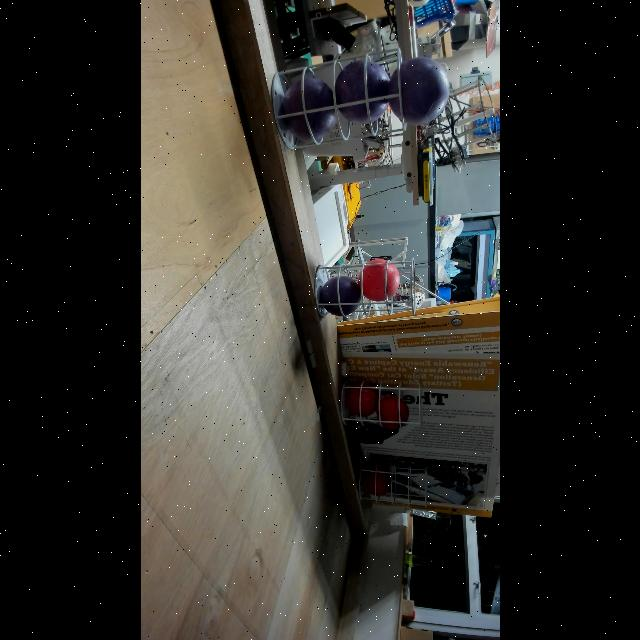P: (386, 56, 449, 126), (332, 59, 392, 125), (280, 78, 338, 142), (319, 276, 361, 316)
R: (356, 258, 399, 302), (344, 381, 378, 417), (376, 396, 408, 430), (362, 462, 392, 496)
S: (268, 48, 409, 150), (313, 256, 417, 318), (340, 379, 422, 431), (358, 461, 428, 509)
